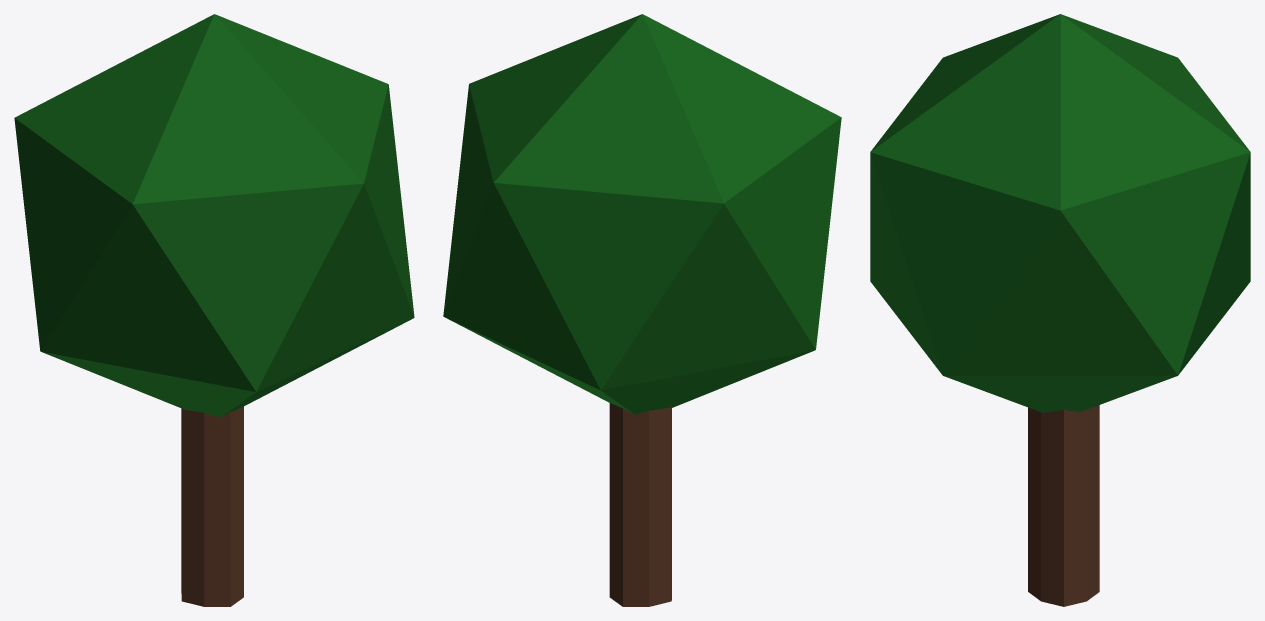
The model's file is tree_2.fbx.
3 renders of one model, left to right at view 1: azimuth 30°, elevation 25°; view 2: azimuth 150°, elevation 25°; view 3: azimuth 270°, elevation 25°, orthographic.
Parts seen in each view (by area): view 1: tree_2; view 2: tree_2; view 3: tree_2.
Part boxes in pixels (x1=…): tree_2: x1=14, y1=14, x2=414, y2=606; tree_2: x1=443, y1=14, x2=841, y2=606; tree_2: x1=870, y1=14, x2=1250, y2=606.
Size of the model in its own units: 106 by 169 by 101.
